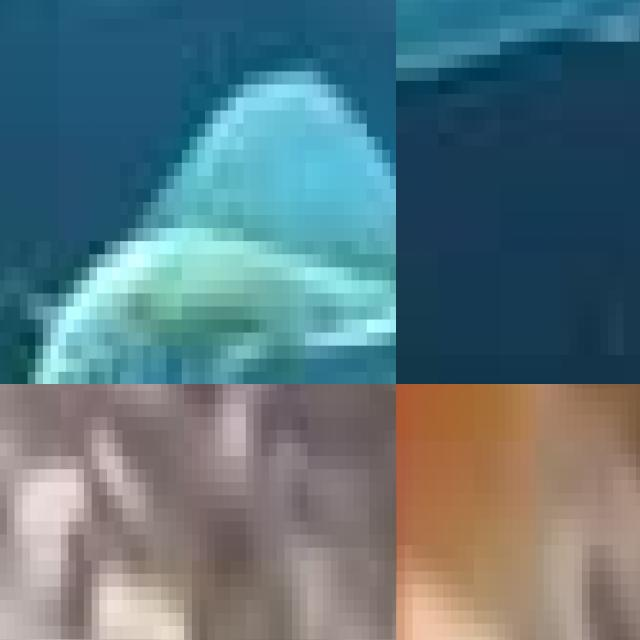fish: (0, 6, 396, 384), (396, 0, 640, 120)
